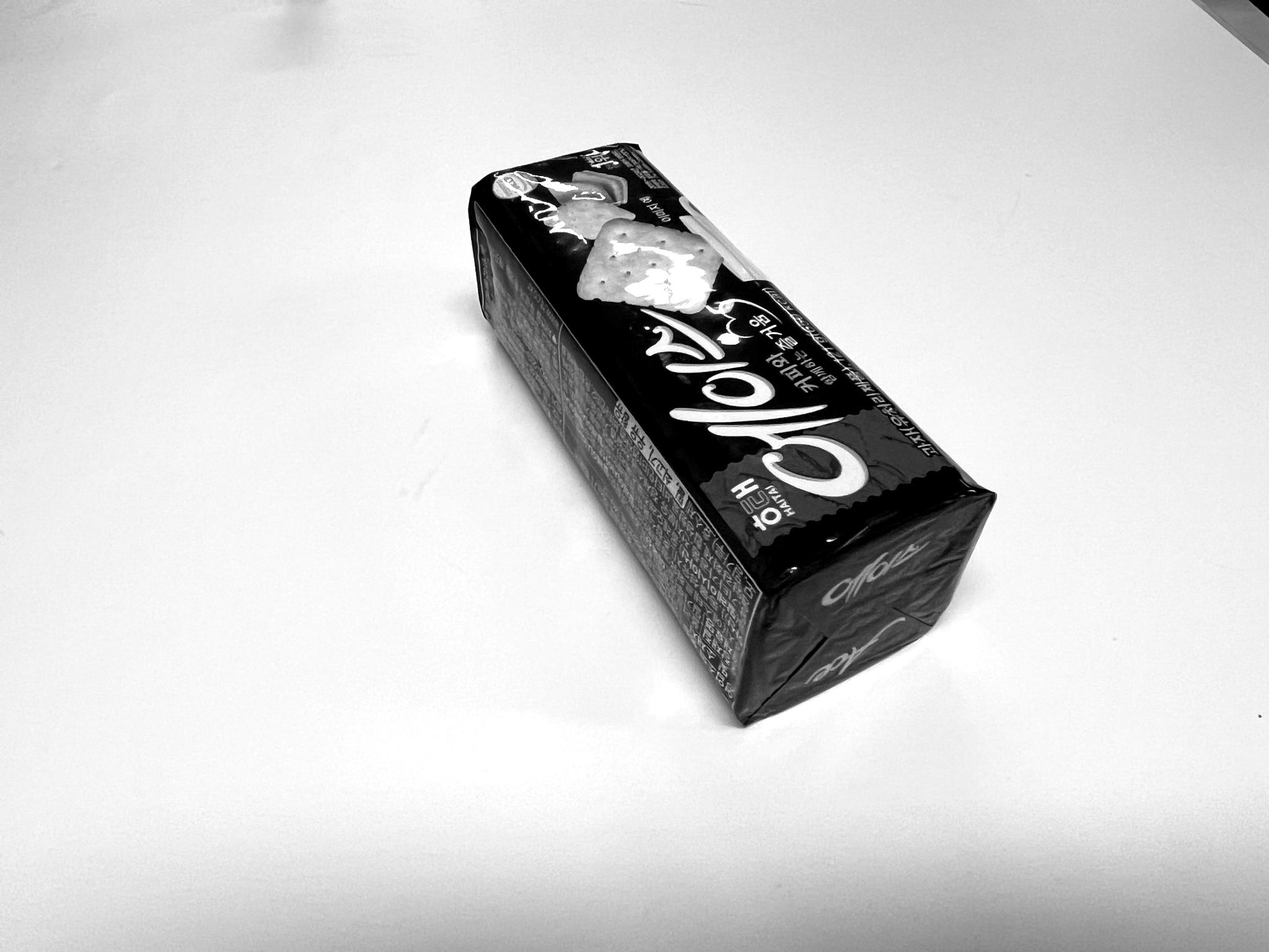cracker_ace: (467, 141, 997, 725)
